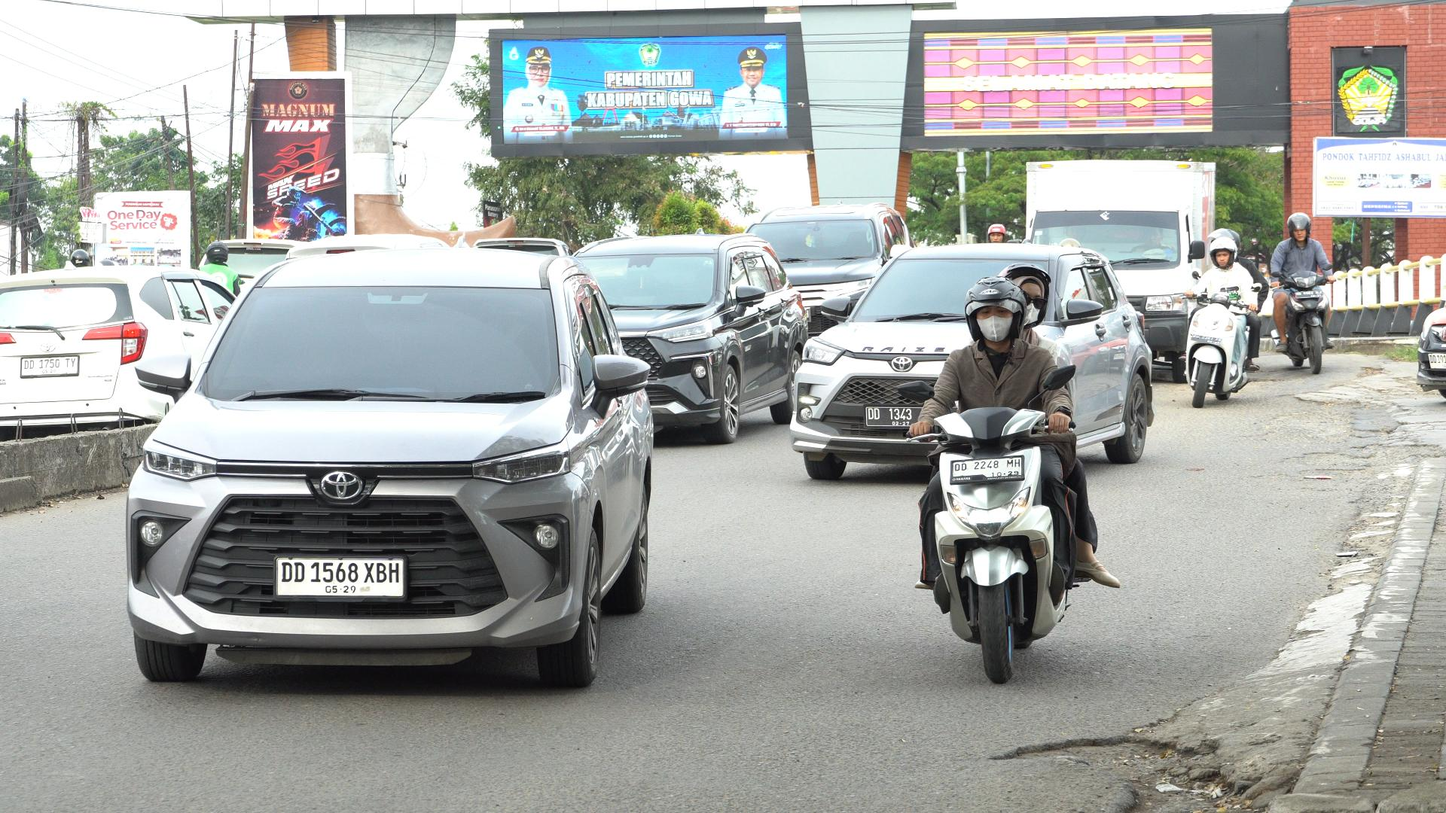number-plate: (950, 453, 1026, 481)
